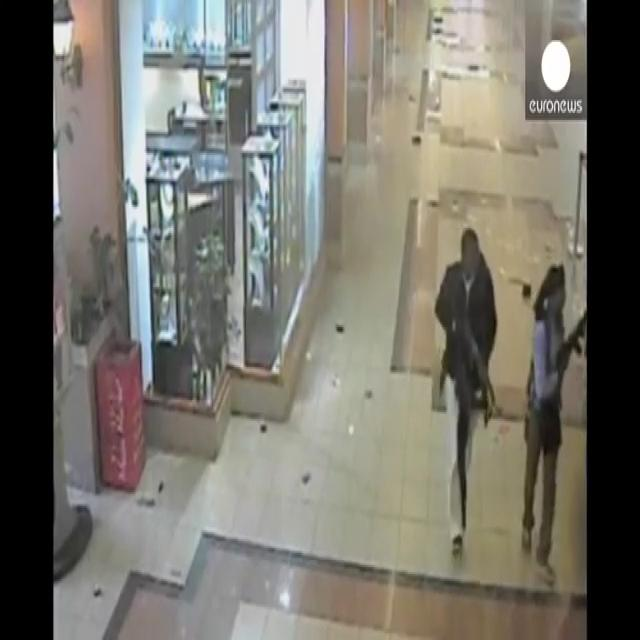Weapon: (451, 297, 586, 474)
